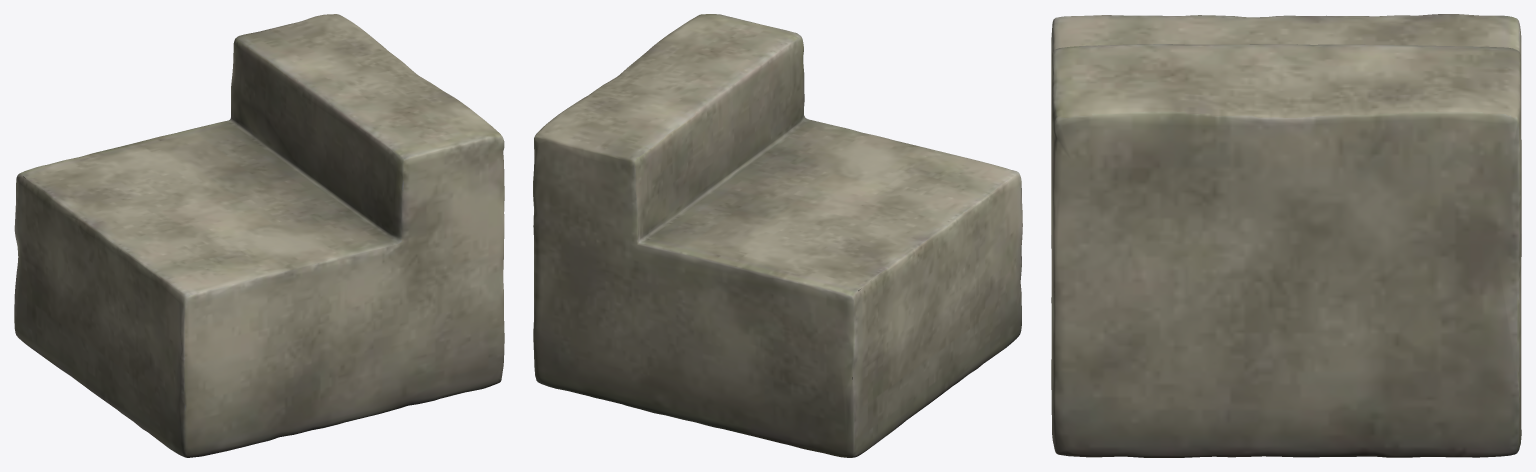
File: simple-limestone-balcony-v001.glb
3 views of the same model, side by side, from view 1: azimuth 30°, elevation 25°; view 2: azimuth 150°, elevation 25°; view 3: azimuth 270°, elevation 25° (orthographic). The views are drawn at different scales.
Parts seen in each view (by area): view 1: simple-limestone-balcony; view 2: simple-limestone-balcony; view 3: simple-limestone-balcony.
Part boxes in pixels (x1,y1,x2,y2): simple-limestone-balcony: [14, 14, 504, 457]; simple-limestone-balcony: [533, 14, 1022, 457]; simple-limestone-balcony: [1051, 14, 1521, 457].
Bounding box in the file's own units: 1.58 × 1.19 × 1.44.
Materials: 1 (1 with a texture image).
